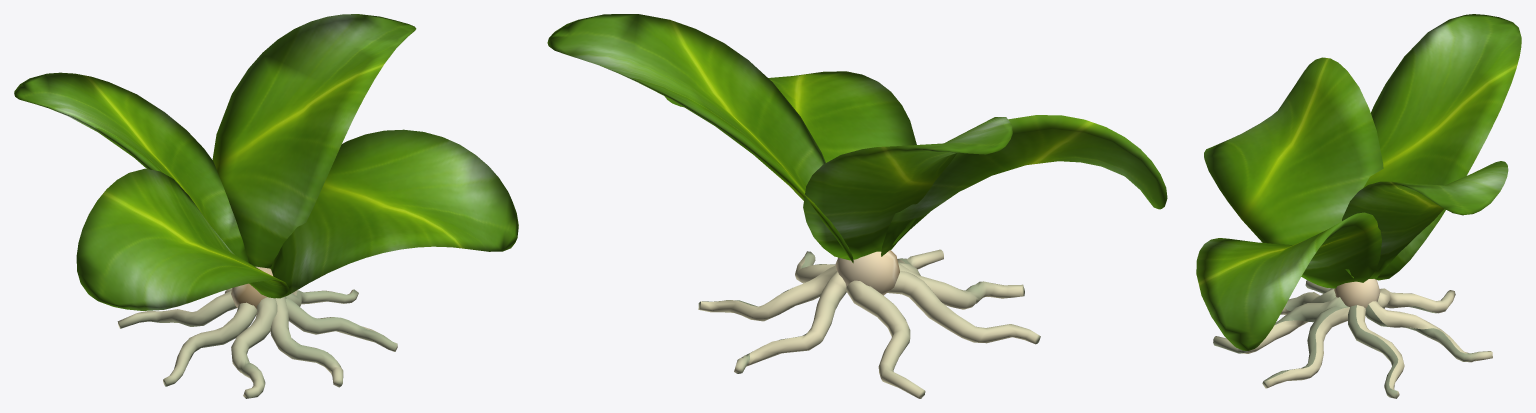
File: NP_Orchid_Young_LOD1.fbx
The picture shows the model from 3 angles, left to right: view 1: azimuth 30°, elevation 25°; view 2: azimuth 150°, elevation 25°; view 3: azimuth 270°, elevation 25°; orthographic projection. The views are drawn at different scales.
Visible parts, largest first — view 1: NP_Orchid_Young; view 2: NP_Orchid_Young; view 3: NP_Orchid_Young.
Boxes of the visible parts, x1,y1,x2,y2 form: NP_Orchid_Young: [14, 14, 518, 398]; NP_Orchid_Young: [547, 14, 1167, 398]; NP_Orchid_Young: [1196, 14, 1521, 398].
Size of the model in its own units: 59.41 by 32.22 by 38.96.
1 material, 1 textured.
